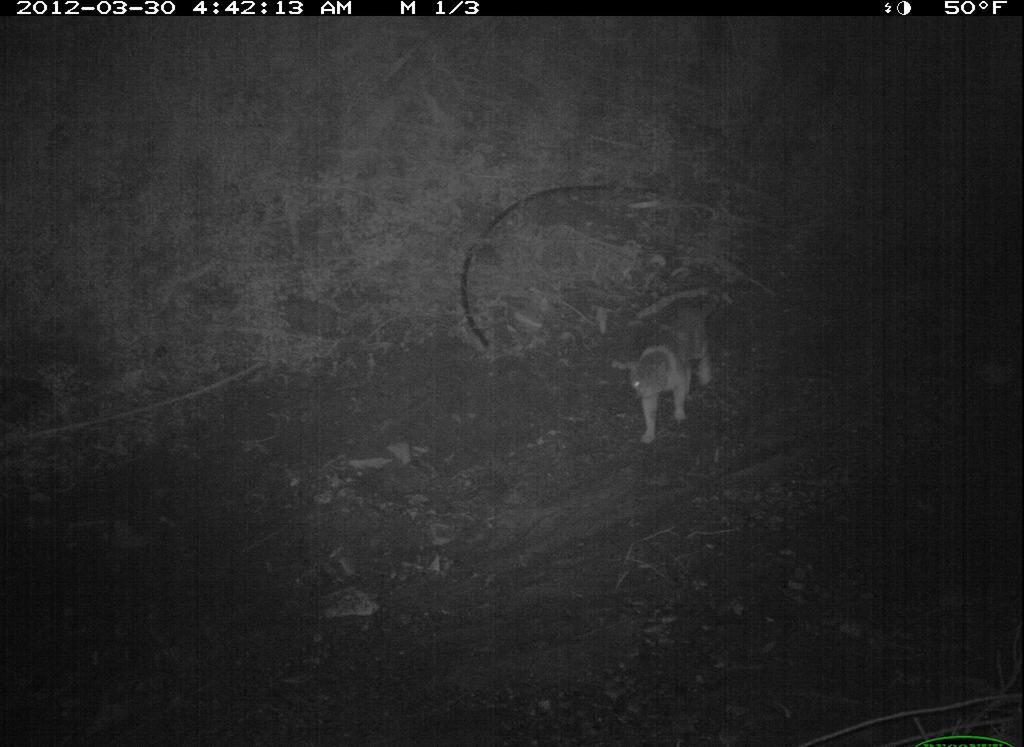cat: (619, 281, 729, 451)
